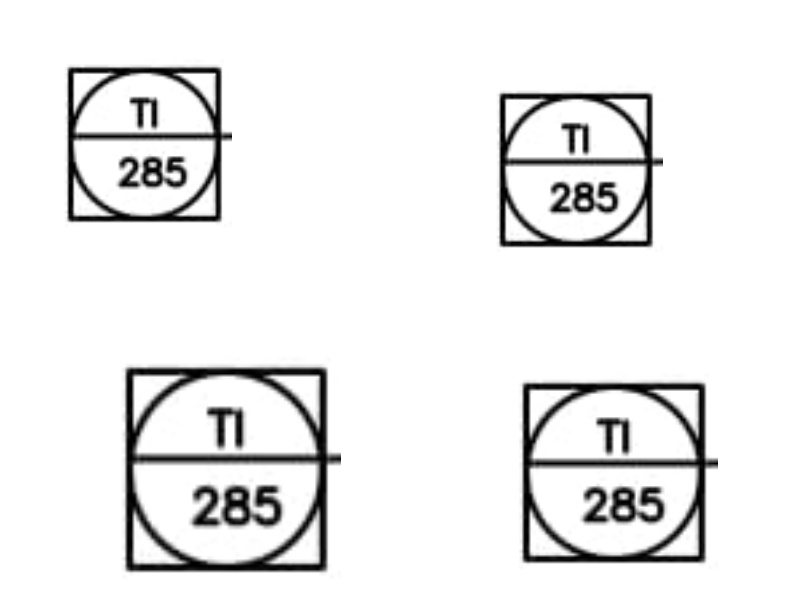Panel Instrument: (122, 363, 333, 576), (516, 375, 712, 569), (59, 60, 225, 226), (498, 89, 657, 253)
